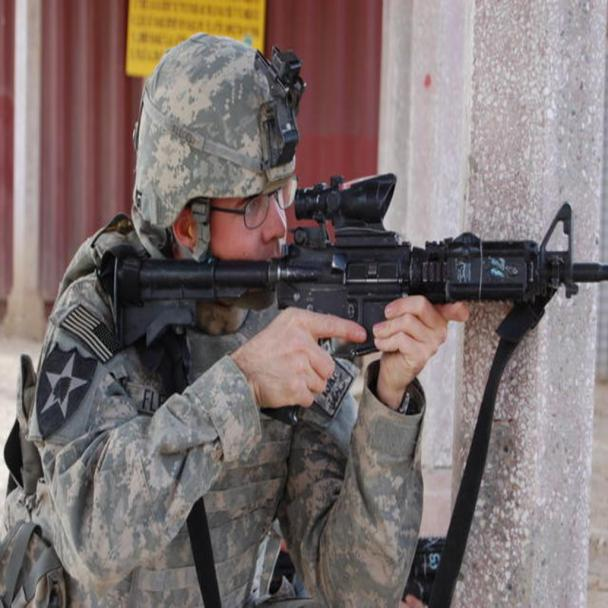Gun: (110, 175, 607, 338)
Hand: (220, 307, 367, 420), (372, 294, 476, 418)
